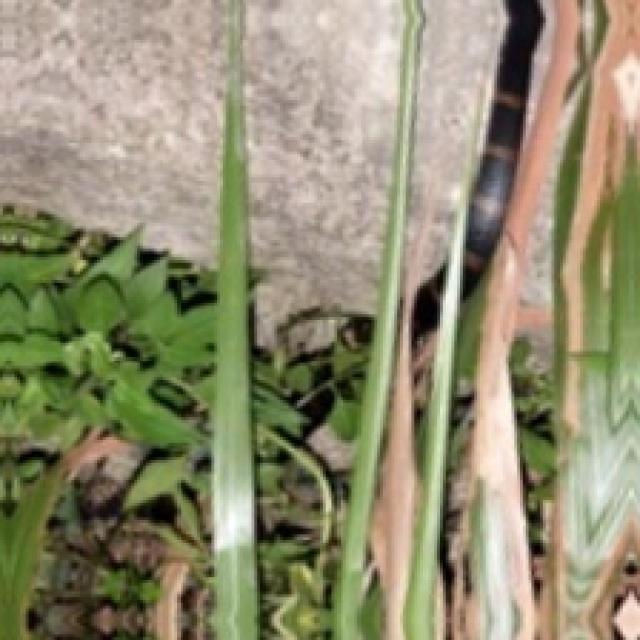king cobra: (465, 0, 544, 299), (412, 266, 444, 342), (335, 315, 372, 352)
